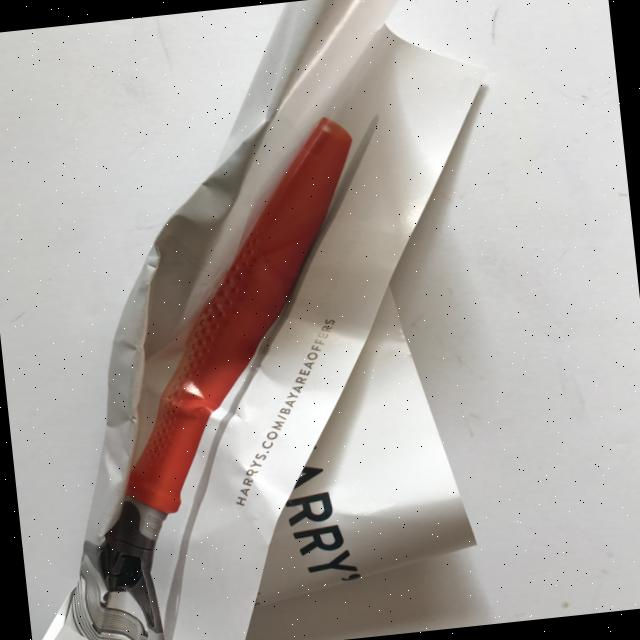paper: (0, 0, 567, 640)
